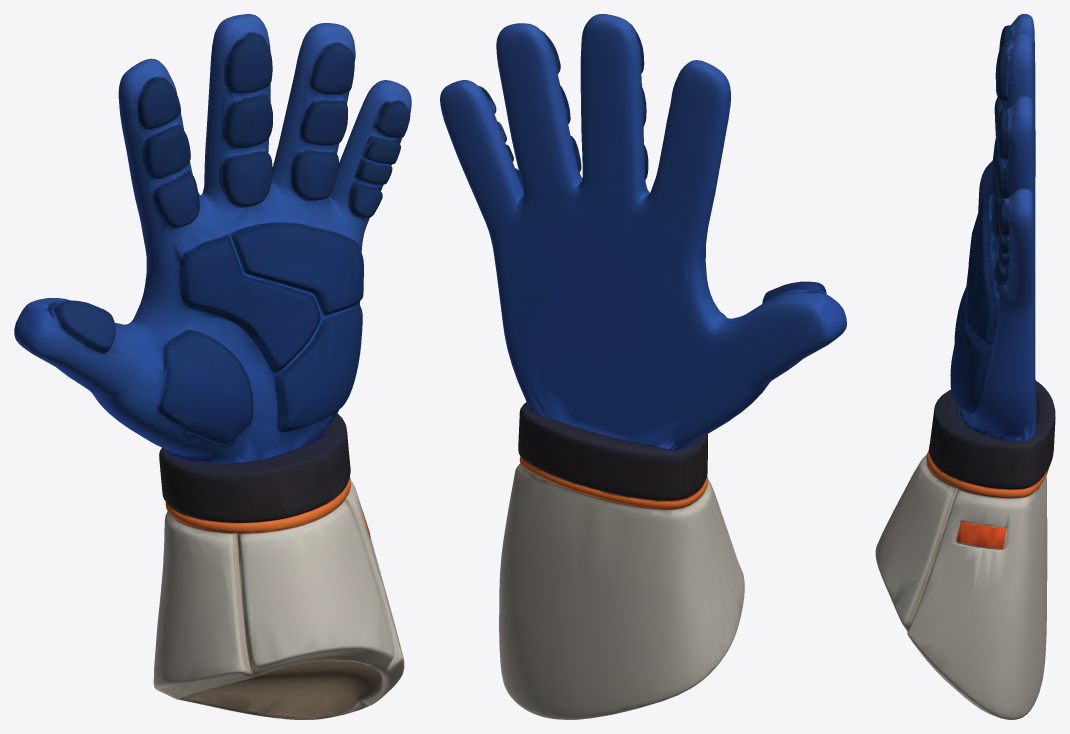
File: hand-left-open.glb
The picture shows the model from 3 angles, left to right: view 1: azimuth 30°, elevation 25°; view 2: azimuth 150°, elevation 25°; view 3: azimuth 270°, elevation 25°; orthographic projection. The views are drawn at different scales.
Visible parts, largest first — view 1: material; view 2: material; view 3: material.
Boxes of the visible parts, box(x1,y1,x2,y2) form: material: box(14, 14, 411, 719); material: box(440, 14, 846, 719); material: box(875, 14, 1055, 719).
Bounding box in the file's own units: 0.6492 × 1.13 × 0.2861.
1 material, 1 textured.
